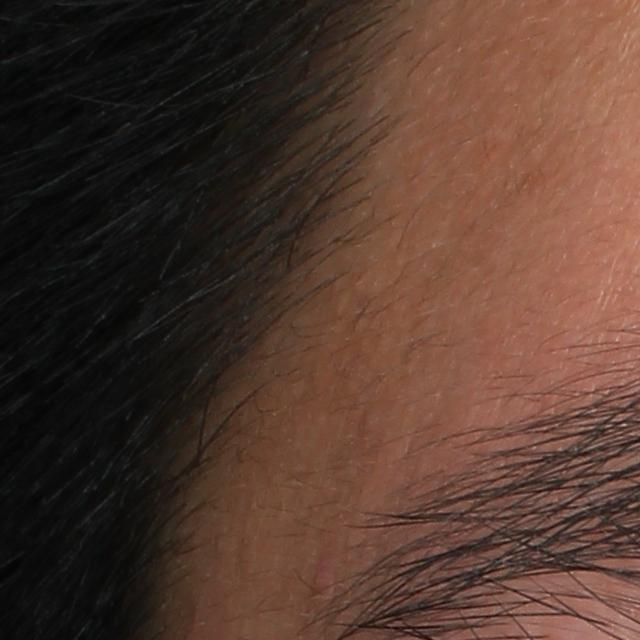papule: (306, 559, 335, 601)
